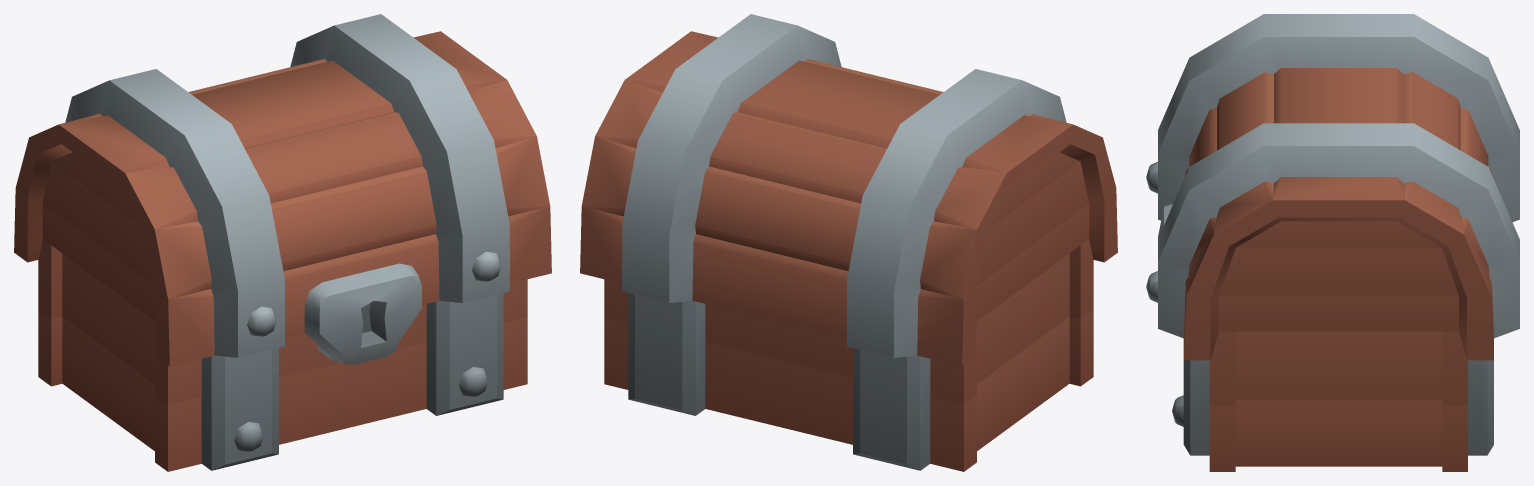
The model's file is dungeon-chest.glb.
The picture shows the model from 3 angles, left to right: view 1: azimuth 30°, elevation 25°; view 2: azimuth 150°, elevation 25°; view 3: azimuth 270°, elevation 25°; orthographic projection.
Parts seen in each view (by area): view 1: chest_lid, Cube.11164; view 2: chest_lid, Cube.11164; view 3: chest_lid, Cube.11164.
Boxes of the visible parts, x1,y1,x2,y2 form: chest_lid: (14,14,551,366); Cube.11164: (38,239,527,471); chest_lid: (580,14,1117,366); Cube.11164: (604,239,1093,471); chest_lid: (1146,14,1519,360); Cube.11164: (1172,331,1493,471).
Size of the model in its own units: 1.28 by 0.9751 by 1.08.
1 material, 1 textured.
